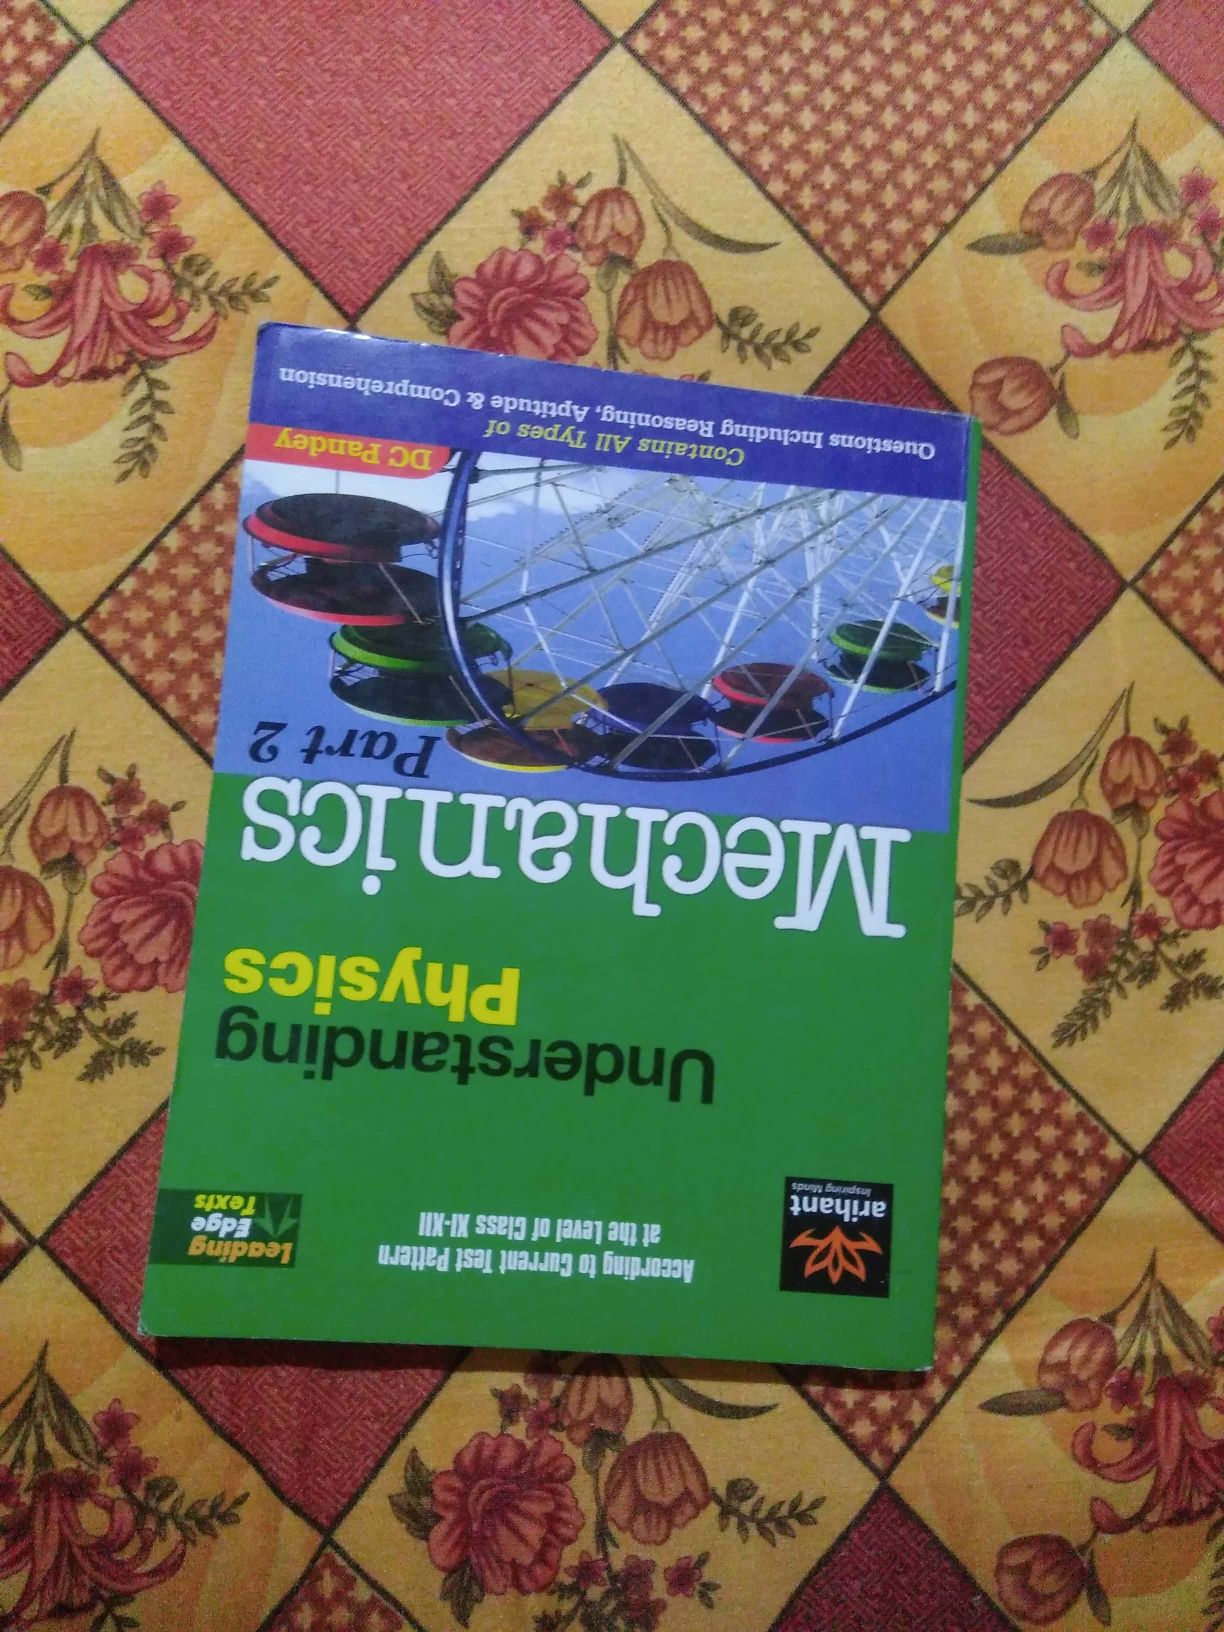mechanics: (136, 265, 1058, 1446)
